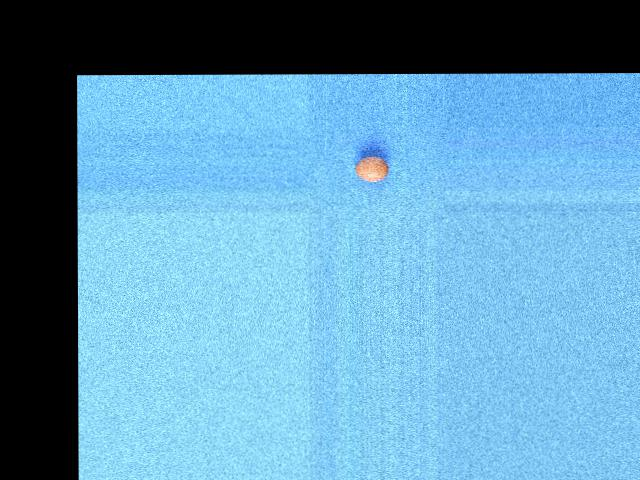egg: (355, 155, 388, 182)
